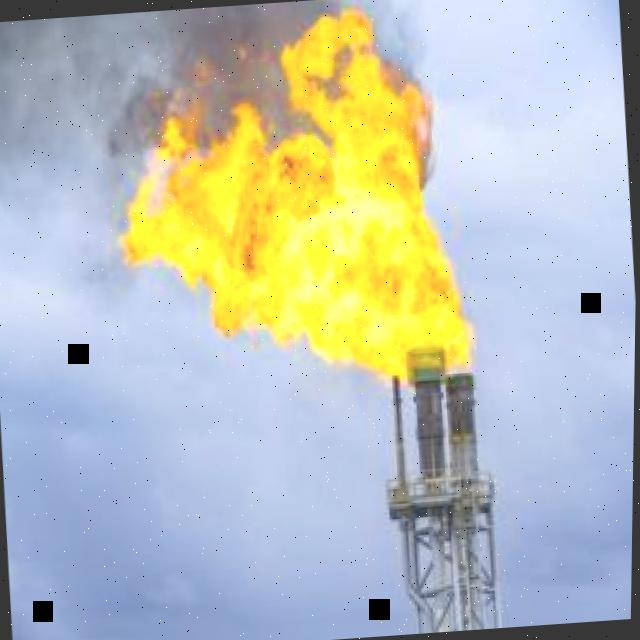fire: (119, 11, 476, 388)
smoke: (0, 0, 436, 310)
